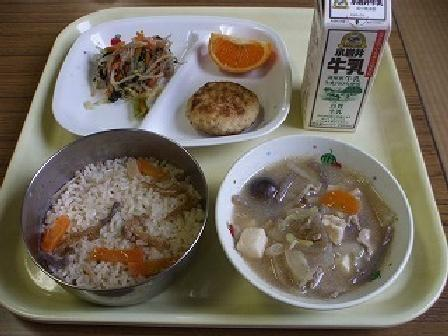Citrus: (206, 24, 278, 74)
Milk: (287, 0, 394, 131)
Mixed rice: (20, 138, 207, 306)
Salad: (90, 30, 178, 108)
Soups: (228, 143, 412, 307)
cutlet: (186, 78, 261, 139)
